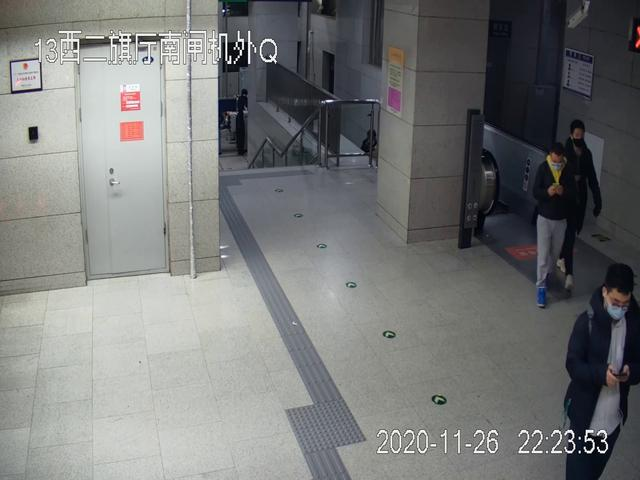person: (562, 265, 640, 480), (558, 119, 604, 286), (532, 144, 574, 309)
